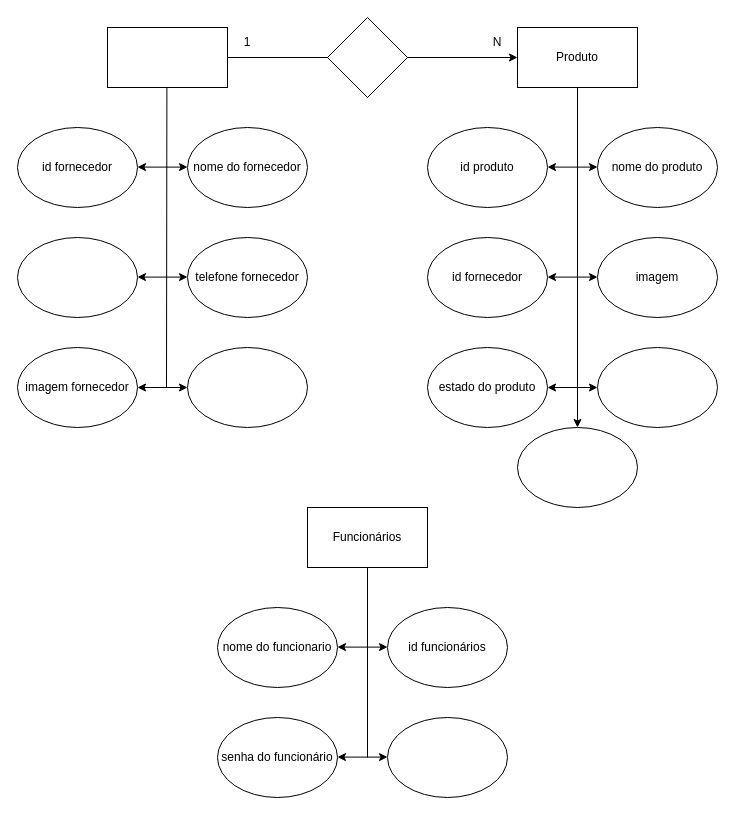
This 735x815 diagram has some shape labels left out. The shapes that lost their labels are listed below. From the top down, each one's centre as x and y in pixels, then its label:
(x=167, y=57): Fornecedor
(x=367, y=57): Vende
(x=77, y=277): email fornecedor
(x=247, y=387): CNPJ
(x=657, y=387): descrição
(x=577, y=467): preço
(x=447, y=757): email do funcionarios
